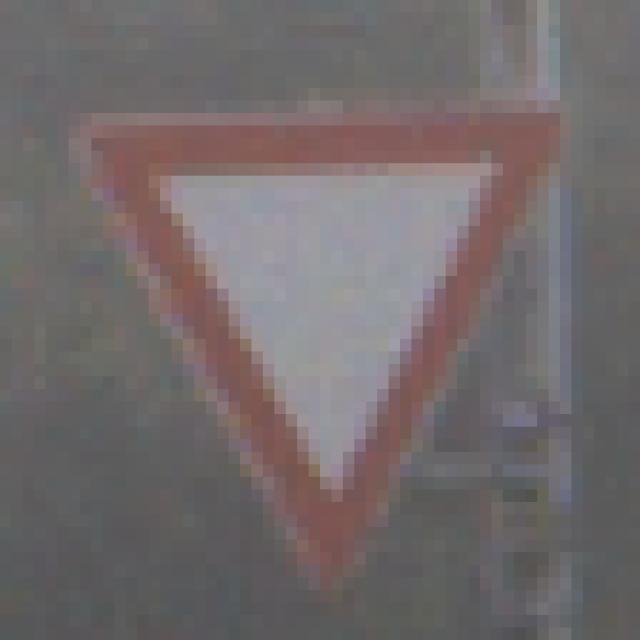Give Way: (69, 77, 584, 579)
